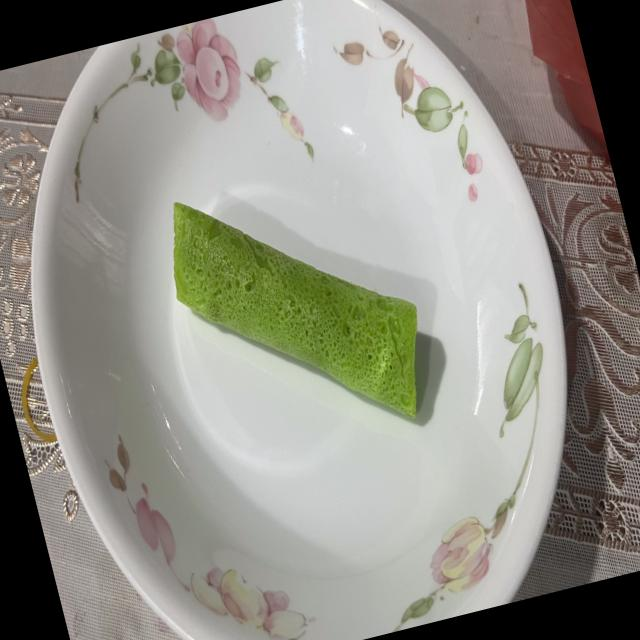Kuih-Ketayap: (173, 202, 417, 417)
